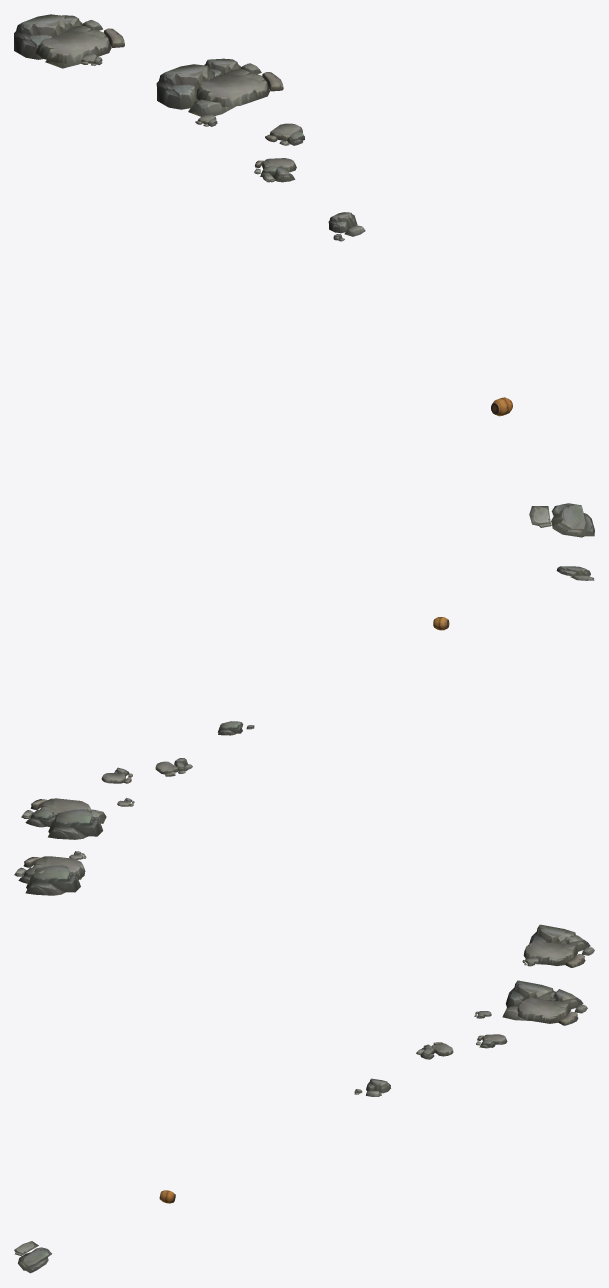
Rendered from wujian_1.FBX.
3 renders of one model, top to bottom at view 1: azimuth 30°, elevation 25°; view 2: azimuth 150°, elevation 25°; view 3: azimuth 330°, elevation 25°, orthographic. The views are drawn at different scales.
Visible parts, largest first — view 1: wujian; view 2: wujian; view 3: wujian.
Boxes of the visible parts, <box> form: wujian: <box>14,14,594,537</box>; wujian: <box>14,566,594,895</box>; wujian: <box>14,924,594,1273</box>.
Size of the model in its own units: 2328 by 267 by 10100.
